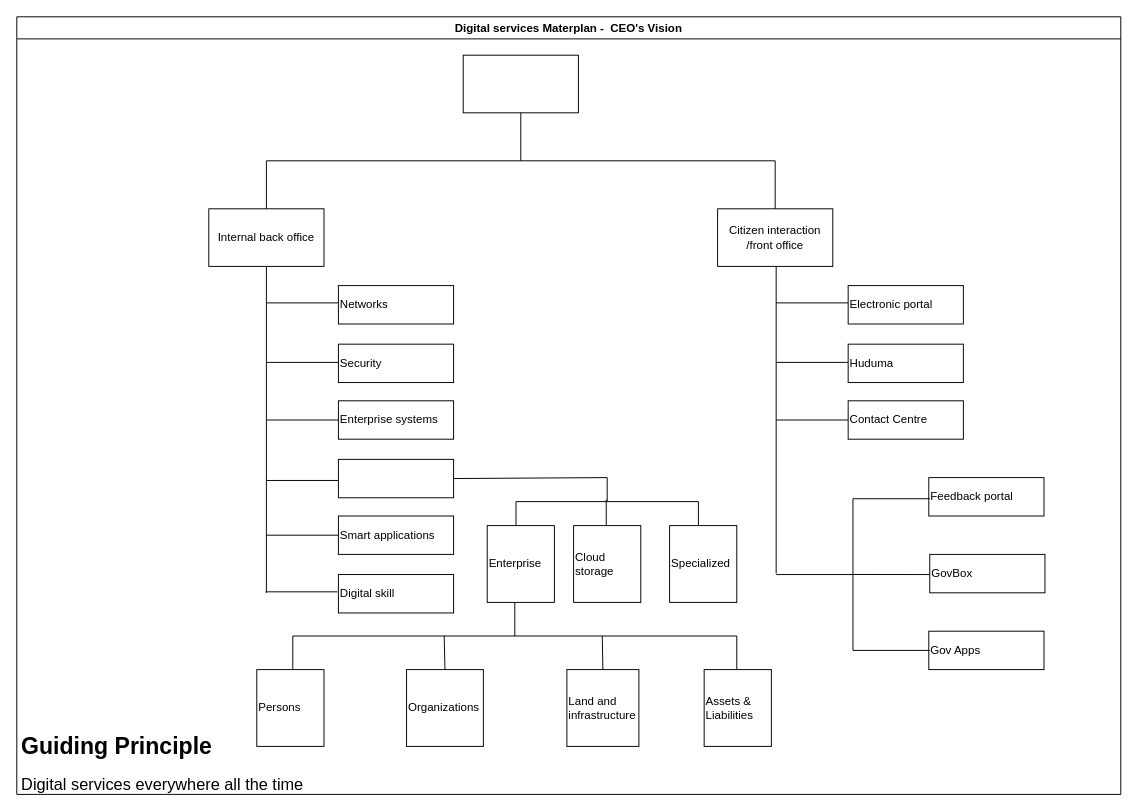
Some shapes in this 1138 by 811 pixel diagram are drawn without their labels. The shapes that lost their labels are listed below. From the top down, each one's centre as x and y in pixels, then its label:
pixel 520 83: E-Gov
pixel 395 478: Data
